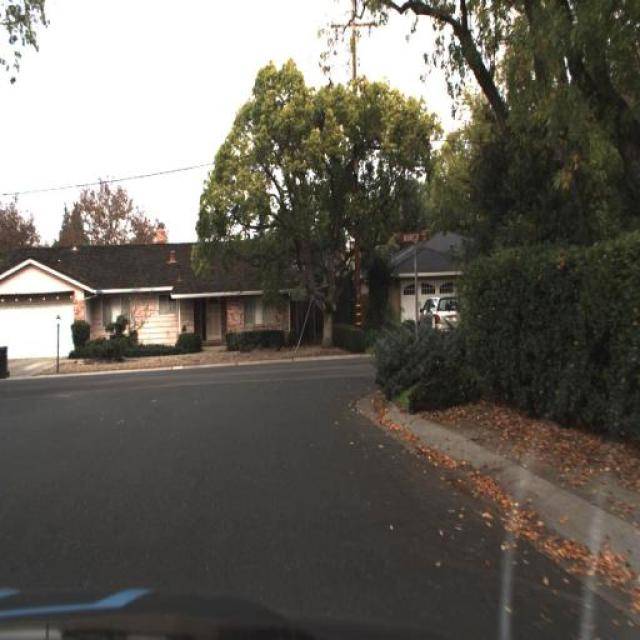car: (416, 293, 464, 341)
